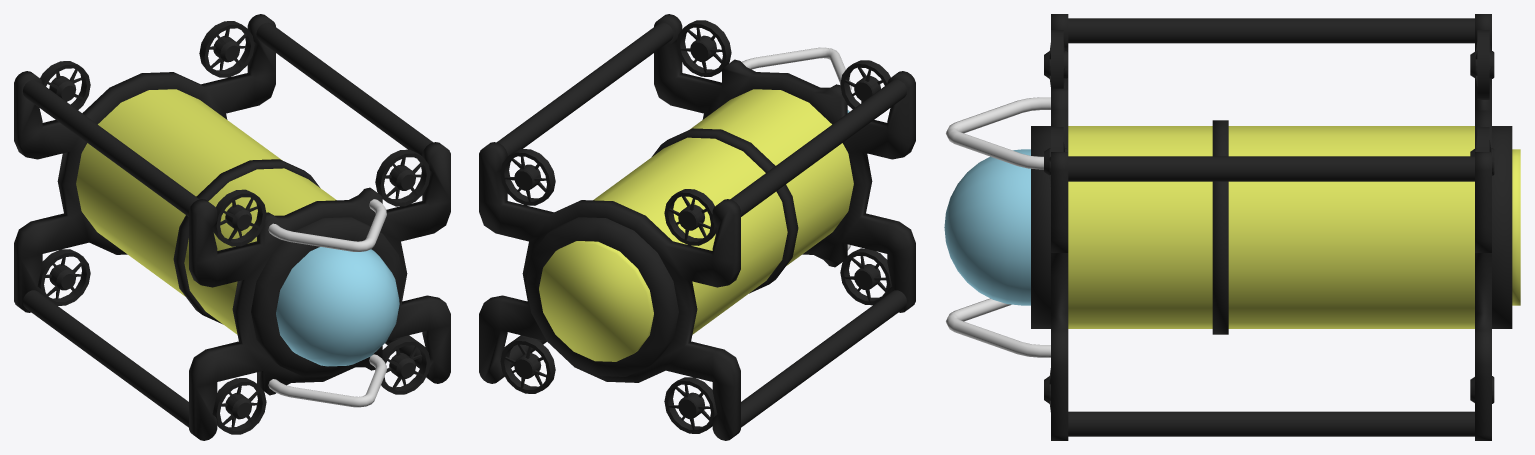
File: ROV.glb
3 views of the same model, side by side, from view 1: azimuth 30°, elevation 25°; view 2: azimuth 150°, elevation 25°; view 3: azimuth 270°, elevation 25° (orthographic). The views are drawn at different scales.
Visible parts, largest first — view 1: ROV; view 2: ROV; view 3: ROV.
Boxes of the visible parts, bbox=[...] form: ROV: bbox=[14, 14, 450, 440]; ROV: bbox=[479, 14, 915, 440]; ROV: bbox=[944, 14, 1520, 440].
Size of the model in its own units: 1.66 by 1.5 by 2.68.
